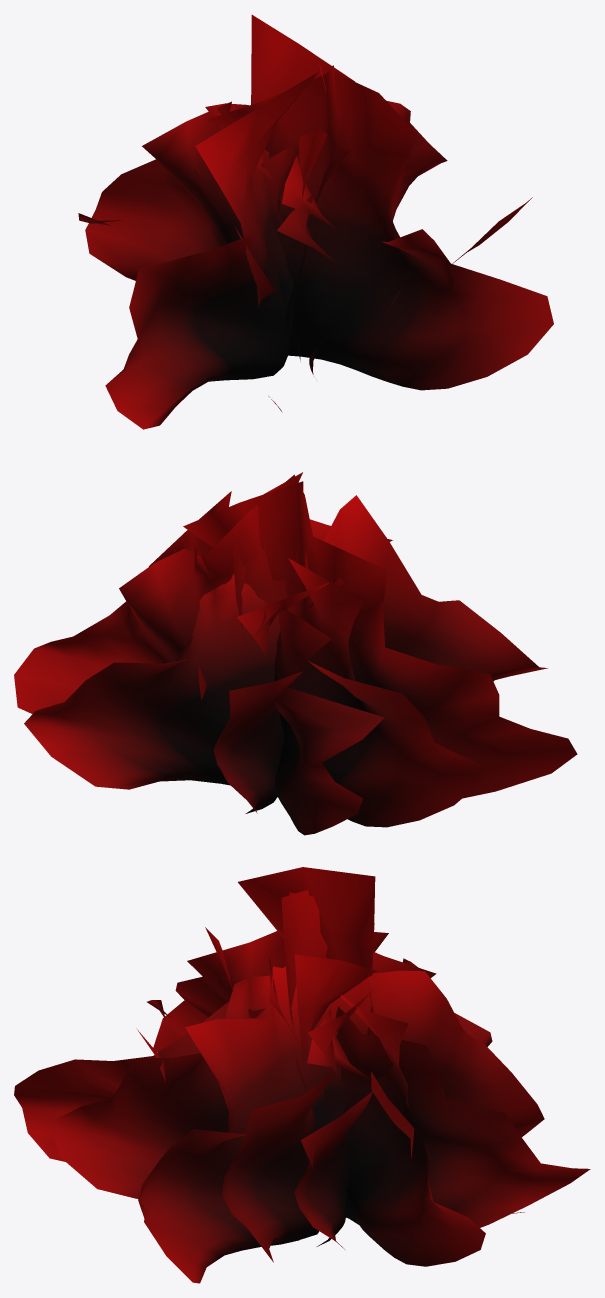
3 renders of one model, top to bottom at view 1: azimuth 30°, elevation 25°; view 2: azimuth 150°, elevation 25°; view 3: azimuth 270°, elevation 25°, orthographic. The views are drawn at different scales.
Parts seen in each view (by area): view 1: sea_lettuce_3; view 2: sea_lettuce_3; view 3: sea_lettuce_3.
Boxes of the visible parts, x1,y1,x2,y2 form: sea_lettuce_3: [78, 15, 553, 429]; sea_lettuce_3: [14, 472, 577, 835]; sea_lettuce_3: [14, 867, 590, 1283].
Bounding box in the file's own units: 0.2191 × 0.1321 × 0.2028.
